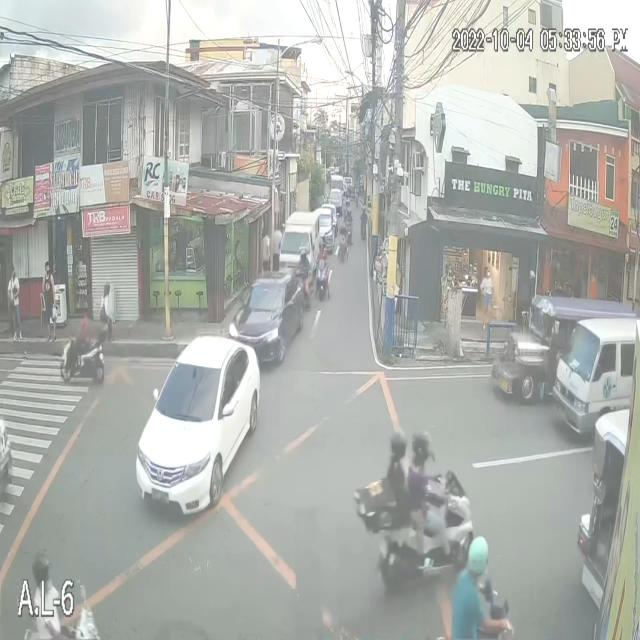Full-Faced: (408, 426, 435, 471), (384, 424, 412, 464), (31, 548, 54, 588)
Invalid: (460, 530, 493, 577)
